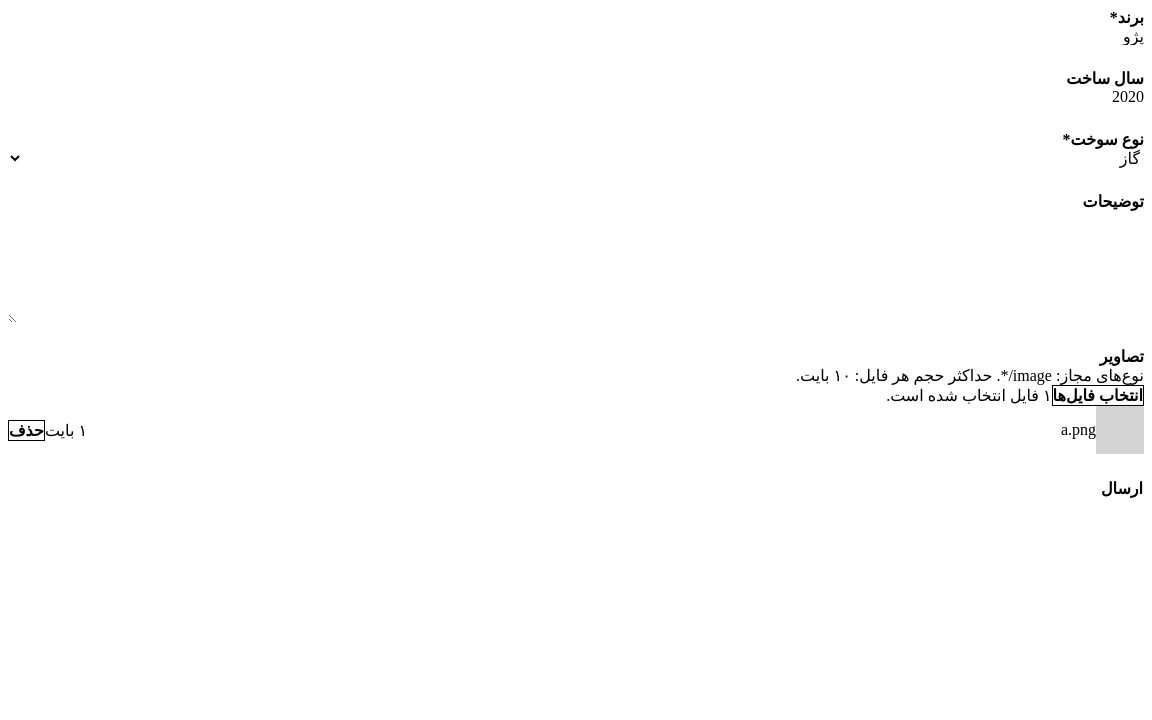
after a successful submit › "New form" brings back an empty form
The image size is (1152, 720).
Earlier steps of the test are not shown.
Click the button "ارسال" at (1122, 488), box [1100,478,1144,499]
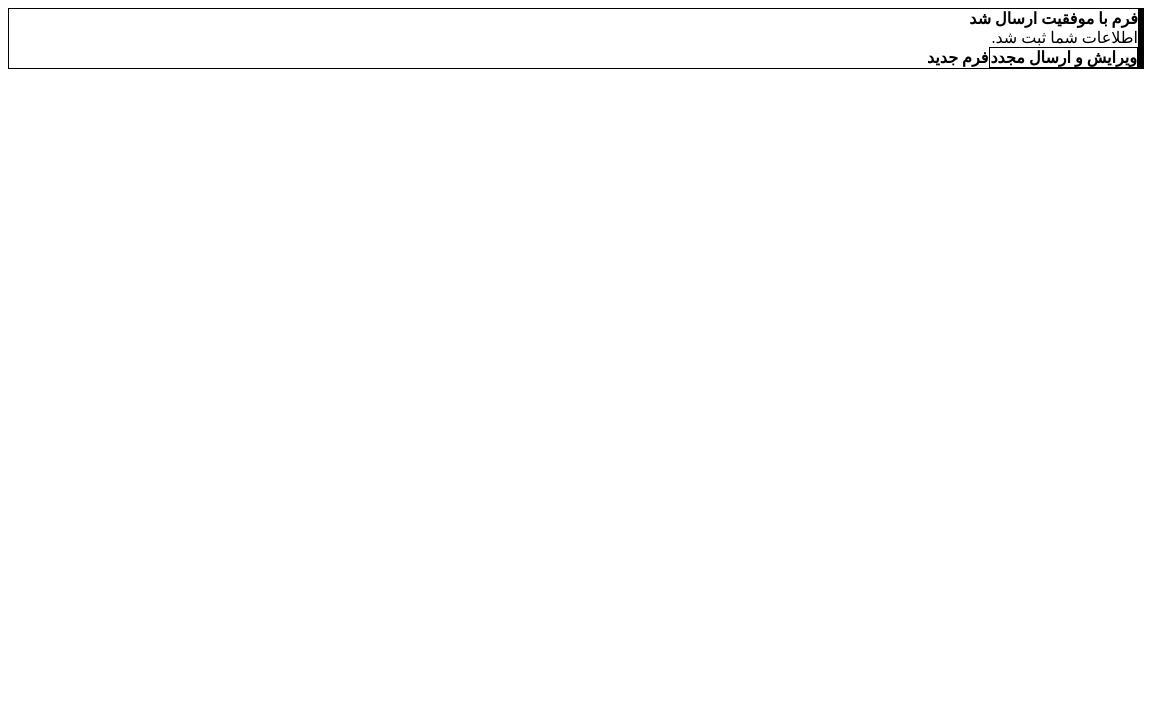
Click the button "فرم جدید" at (958, 58), box [926,47,989,68]
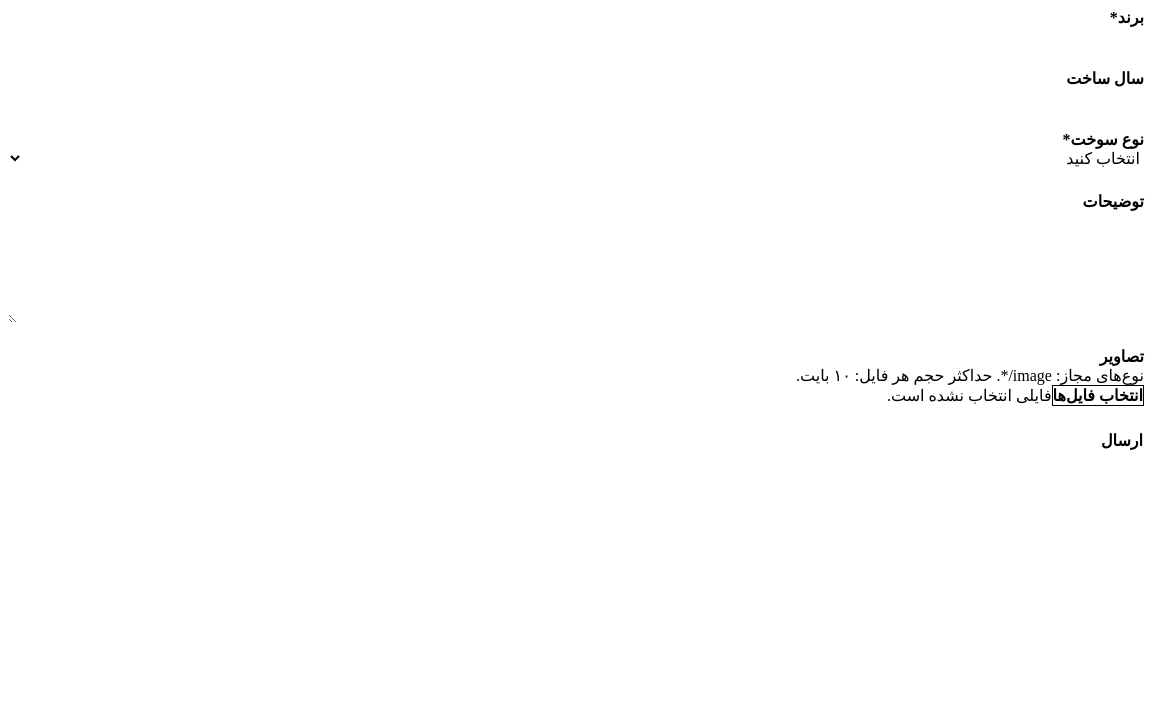
Expected: the field labelled "سال ساخت" is empty, [8,88,1144,106]
Now the field labelled "برند*" is empty, box [8,27,1144,45]
Now the dropdown labelled "نوع سوخت*" shows "انتخاب کنید", box [8,149,1144,168]
